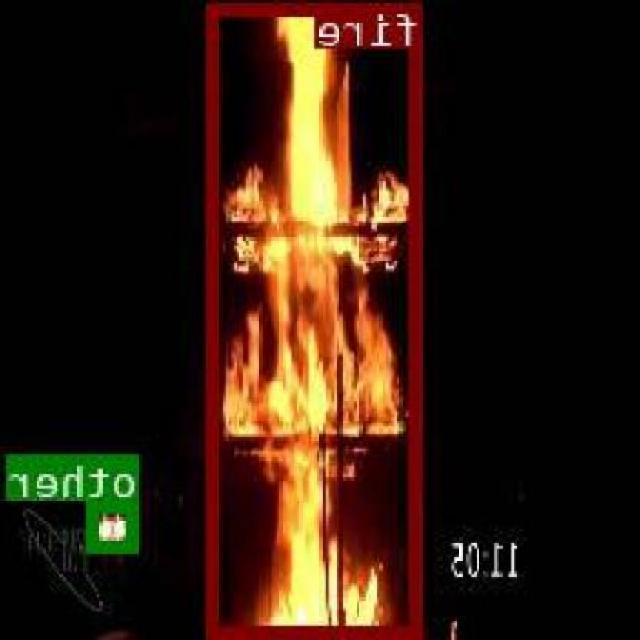Fire: (212, 1, 426, 634)
